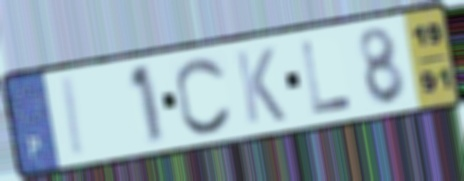1: (128, 61, 167, 147)
8: (357, 25, 409, 107)
C: (173, 54, 235, 137)
I: (61, 73, 88, 160)
K: (232, 44, 289, 127)
L: (298, 37, 355, 117)
